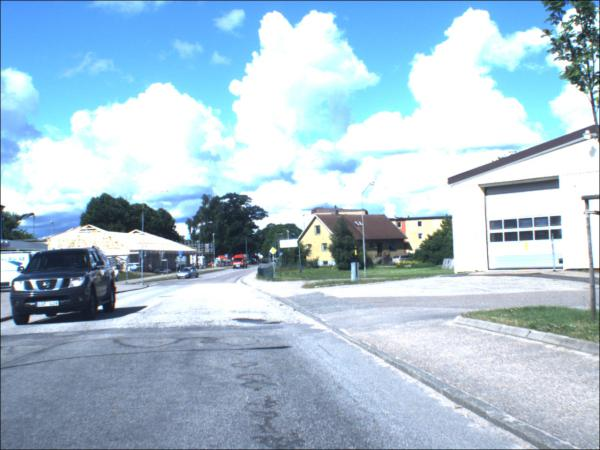PRIORITY_ROAD: (271, 248, 279, 256), (260, 256, 265, 260)
